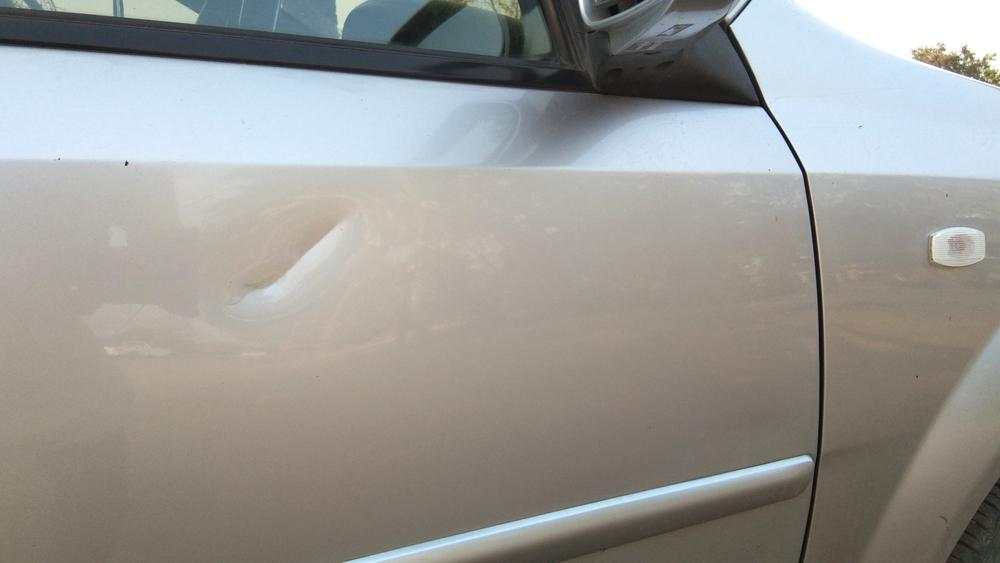dent: (226, 203, 362, 317)
